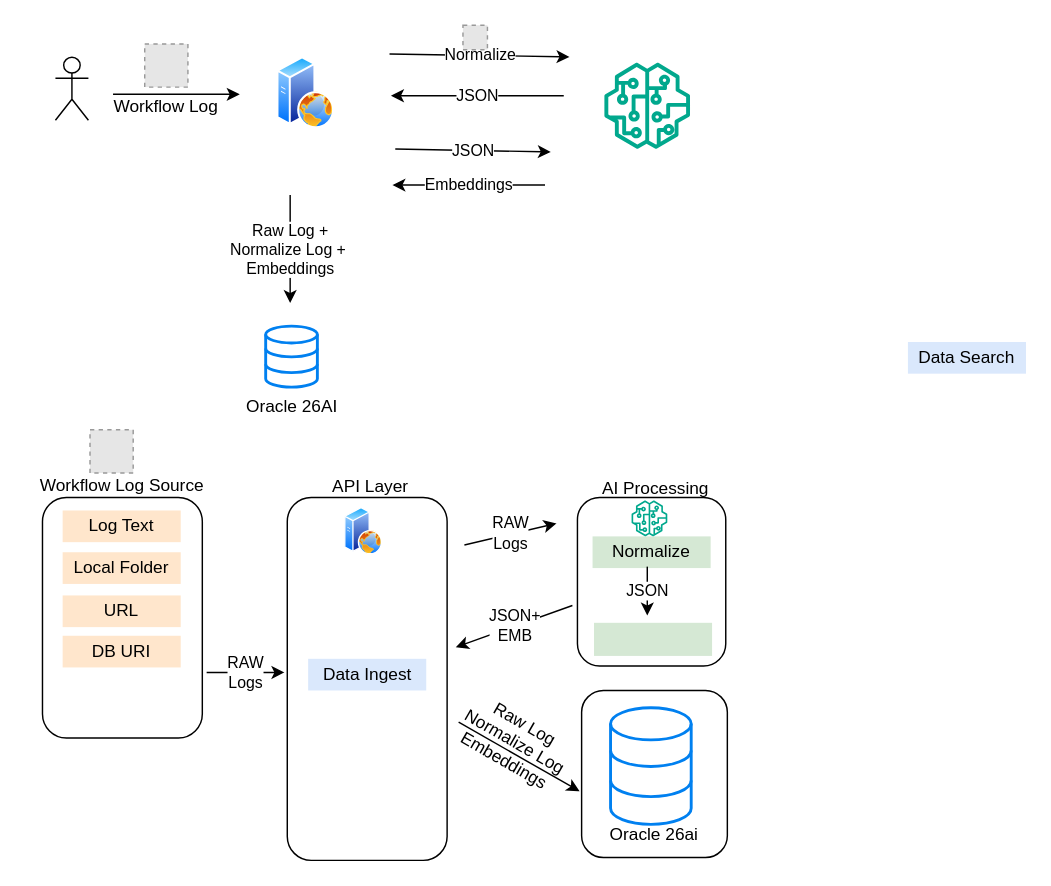
This 1051x886 diagram has some shape labels left out. Grey dashed boxes stand in for pictures. Here are the shapes that lost their labels. From the top down, the centre of each, then its label:
(x=71, y=88): User
(x=305, y=92): End Points
(x=646, y=105): LLM
(x=652, y=638): Emb Model
